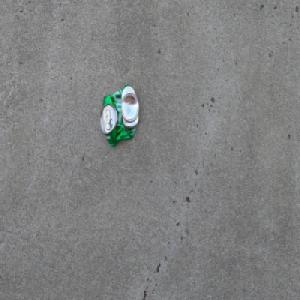SodaCan: (99, 83, 139, 147)
